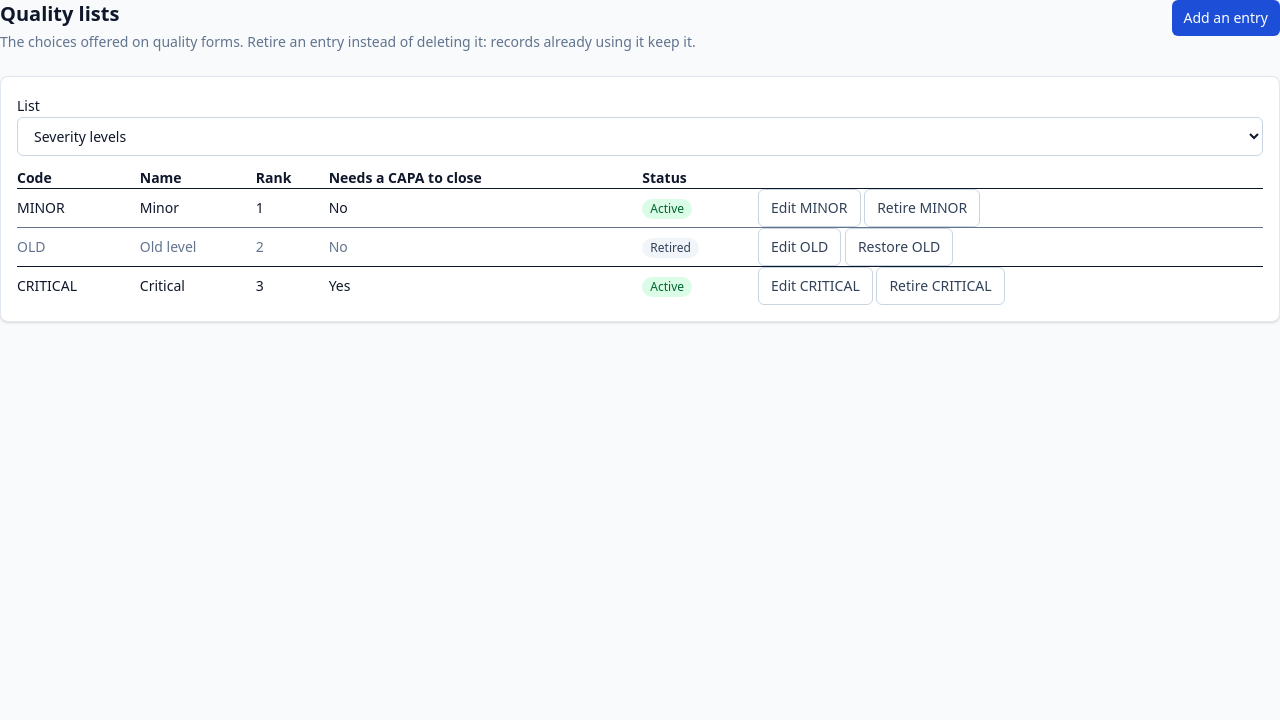
Test: QualitySettingsPage › edits an entry with the code locked, keeping its active state
Later steps or results of the test are not shown.
Click the button "Edit OLD".
click(800, 247)  # box [758,228,841,266]
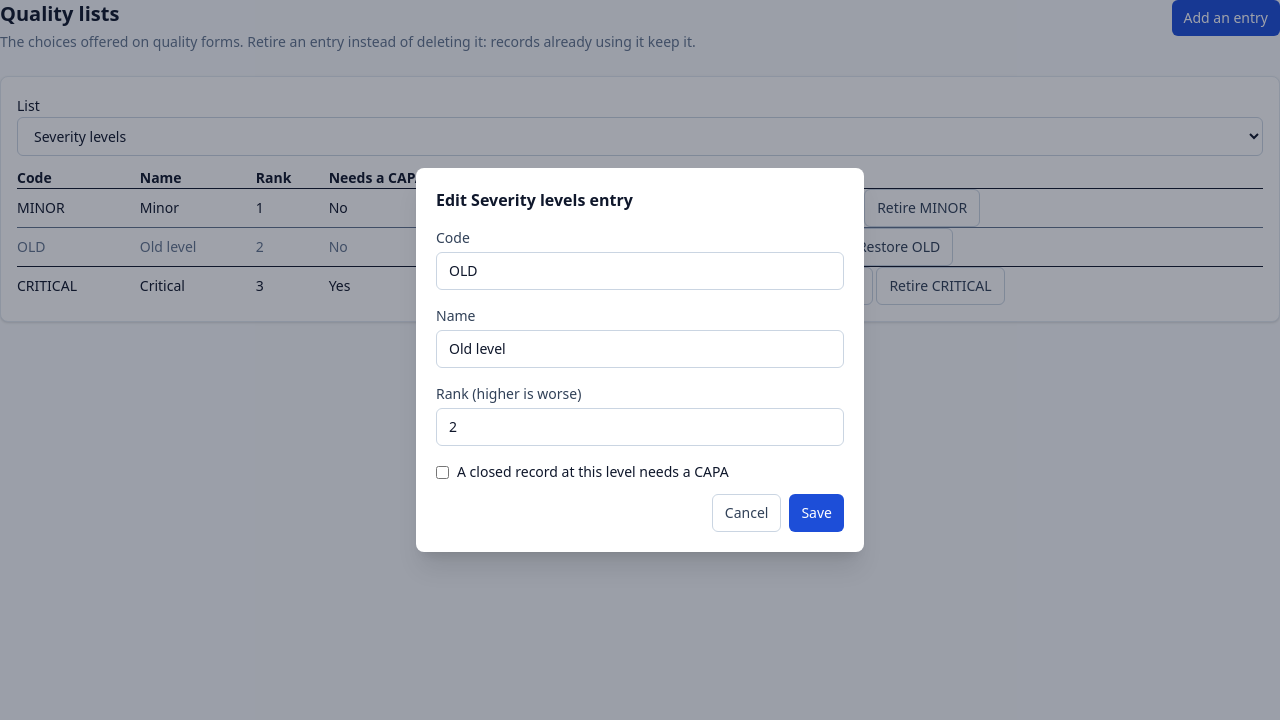
Now the field labelled "Code" is disabled, box [436,252,844,290]
